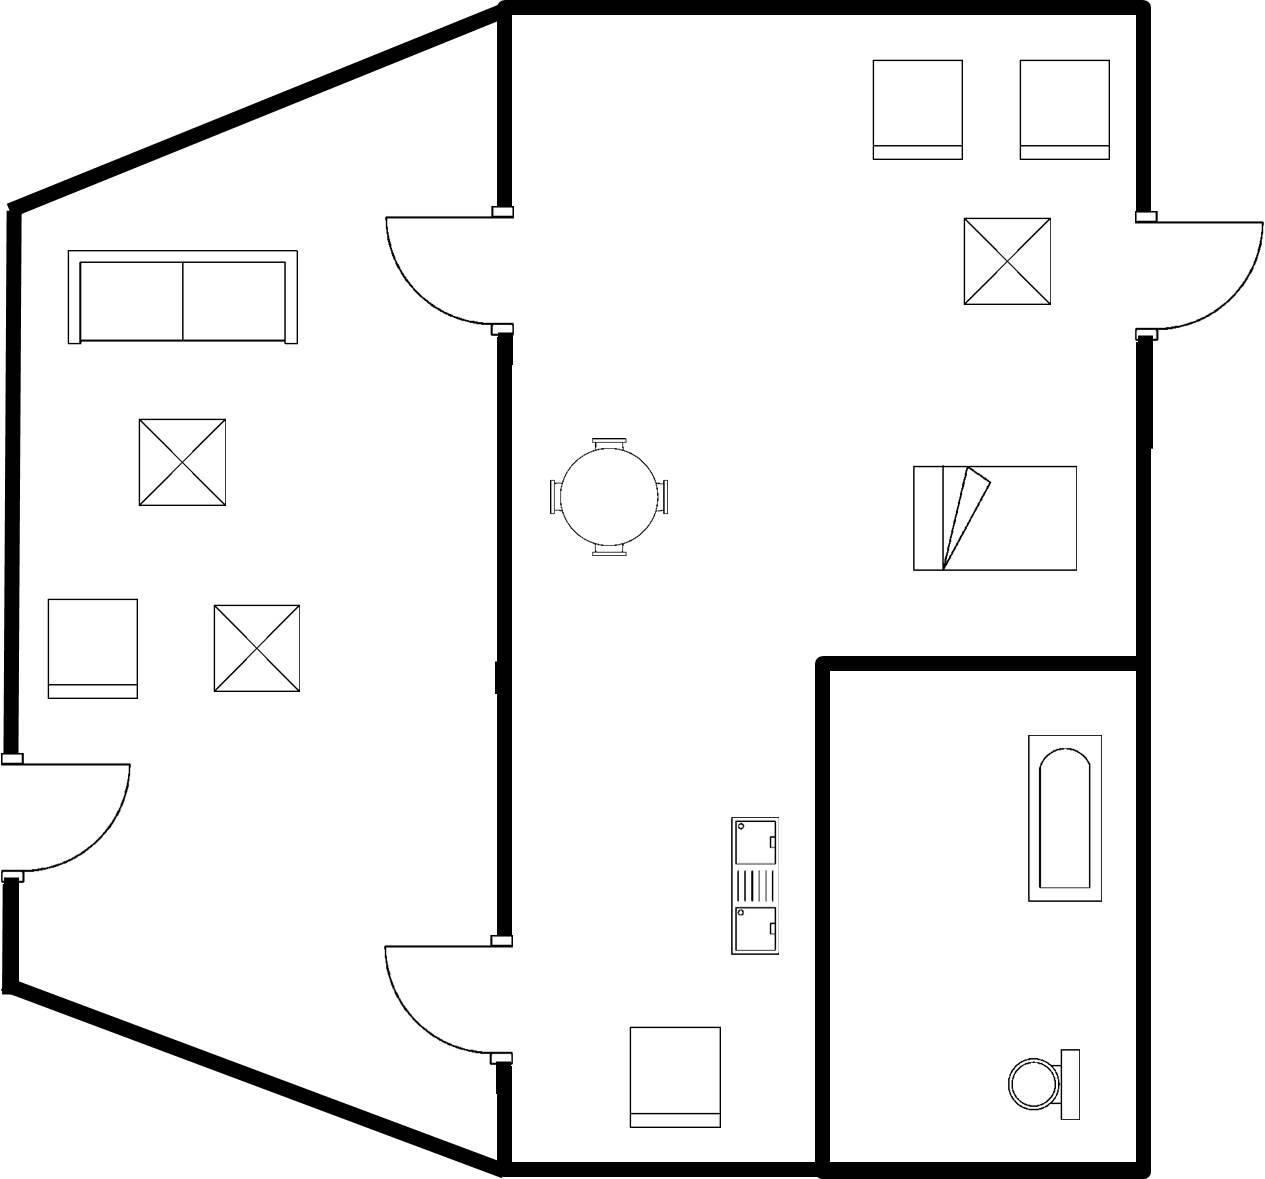sink: (719, 808, 793, 963)
